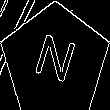N_S: (29, 31, 81, 91)
